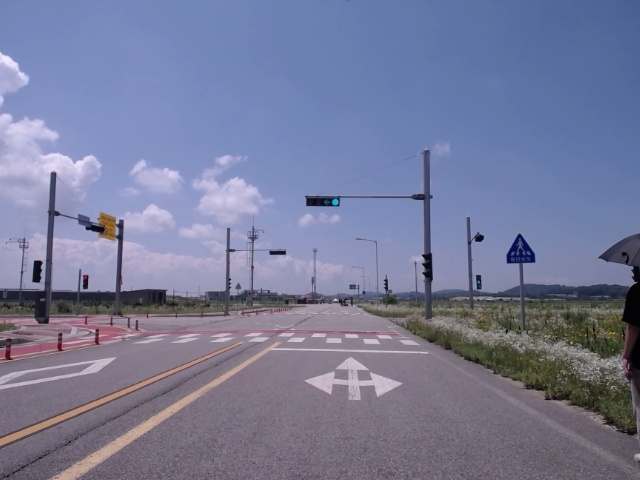all_green_4: (306, 195, 341, 208)
